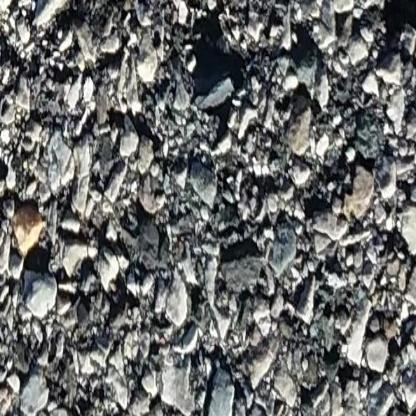Cracks: (183, 2, 318, 91), (374, 0, 416, 69)
